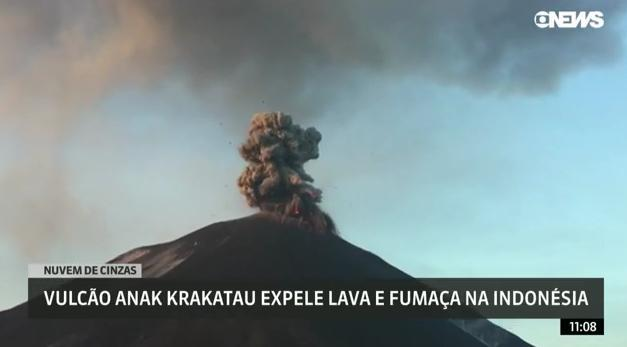smoke: (166, 1, 524, 55)
